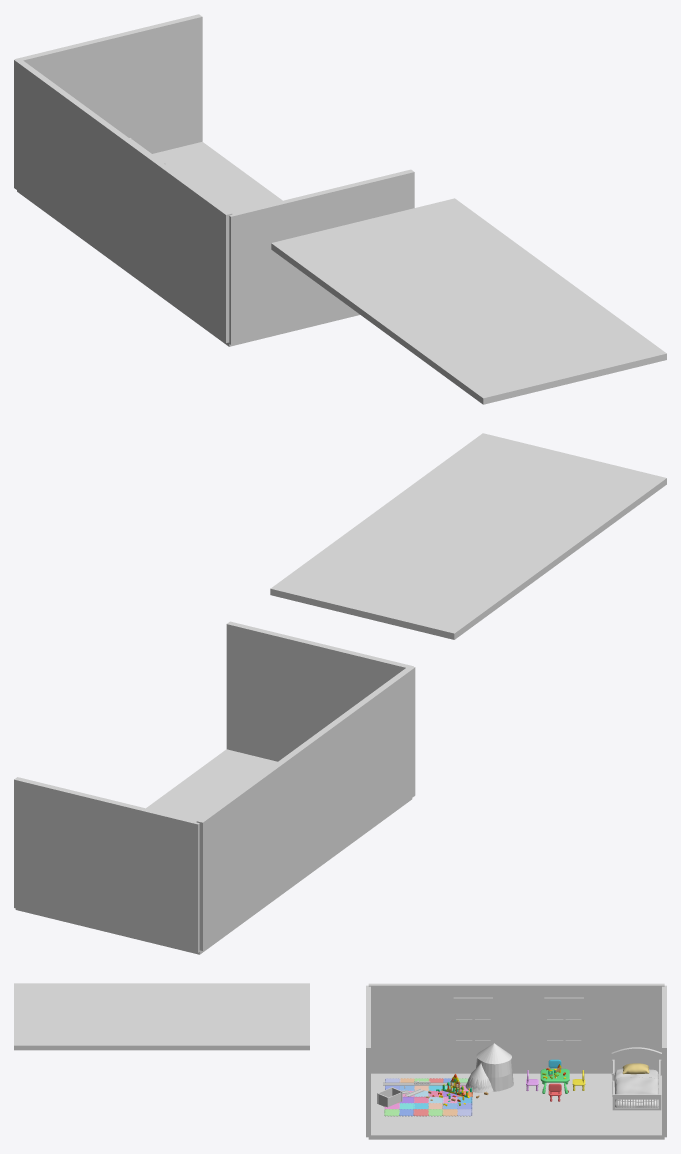
File: Kid'sRoom2.fbx
3 views of the same model, one above another, from view 1: azimuth 30°, elevation 25°; view 2: azimuth 150°, elevation 25°; view 3: azimuth 270°, elevation 25° (orthographic). The views are drawn at different scales.
Visible parts, largest first — view 1: Wall_Top, Wall_Front, Wall_Right, Wall_Left, Wall_Bottom; view 2: Wall_Top, Wall_Front, Wall_Right, Wall_Left, Wall_Bottom; view 3: Wall_Front, Wall_Top, Wall_Bottom, Cube.066, Cube.081, Body.004, Wall_Left, Wall_Right, Cube.080, Cone, Head, Cube.082 (+11 smaller).
Part boxes in pixels (x1=…): Wall_Top: x1=271, y1=198, x2=666, y2=404; Wall_Front: x1=14, y1=58, x2=232, y2=342; Wall_Right: x1=15, y1=14, x2=202, y2=153; Wall_Left: x1=228, y1=169, x2=414, y2=344; Wall_Bottom: x1=17, y1=141, x2=359, y2=346; Wall_Top: x1=270, y1=433, x2=666, y2=639; Wall_Front: x1=196, y1=665, x2=415, y2=950; Wall_Right: x1=14, y1=777, x2=200, y2=952; Wall_Left: x1=226, y1=621, x2=413, y2=761; Wall_Bottom: x1=15, y1=749, x2=412, y2=954; Wall_Front: x1=368, y1=983, x2=664, y2=1073; Wall_Top: x1=14, y1=983, x2=309, y2=1050; Wall_Bottom: x1=368, y1=1073, x2=664, y2=1139; Cube.066: x1=611, y1=1047, x2=661, y2=1075; Cube.081: x1=616, y1=1077, x2=657, y2=1102; Body.004: x1=476, y1=1058, x2=513, y2=1091; Wall_Left: x1=366, y1=985, x2=370, y2=1137; Wall_Right: x1=662, y1=985, x2=666, y2=1137; Cube.080: x1=614, y1=1069, x2=658, y2=1107; Cone: x1=465, y1=1063, x2=493, y2=1093; Head: x1=476, y1=1043, x2=511, y2=1064; Cube.082: x1=540, y1=1068, x2=569, y2=1093.
Size of the model in its own units: 6100 by 4200 by 26478.
